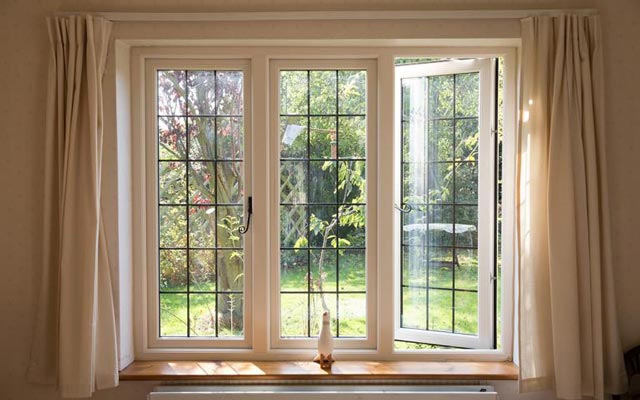Window: (131, 47, 507, 357)
